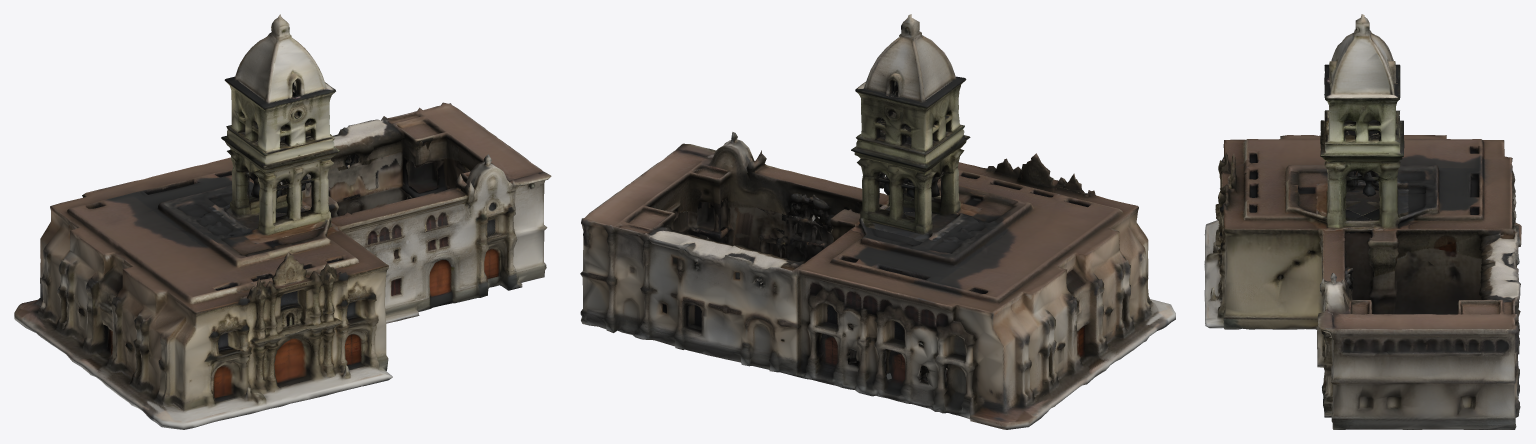
File: iglesia.fbx
The picture shows the model from 3 angles, left to right: view 1: azimuth 30°, elevation 25°; view 2: azimuth 150°, elevation 25°; view 3: azimuth 270°, elevation 25°; orthographic projection. The views are drawn at different scales.
Parts seen in each view (by area): view 1: input; view 2: input; view 3: input.
Boxes of the visible parts, x1,y1,x2,y2 form: input: (14,14,551,429); input: (580,14,1175,429); input: (1204,14,1521,429).
Bounding box in the file's own units: 191 × 129 × 124.
Materials: 1 (1 with a texture image).
